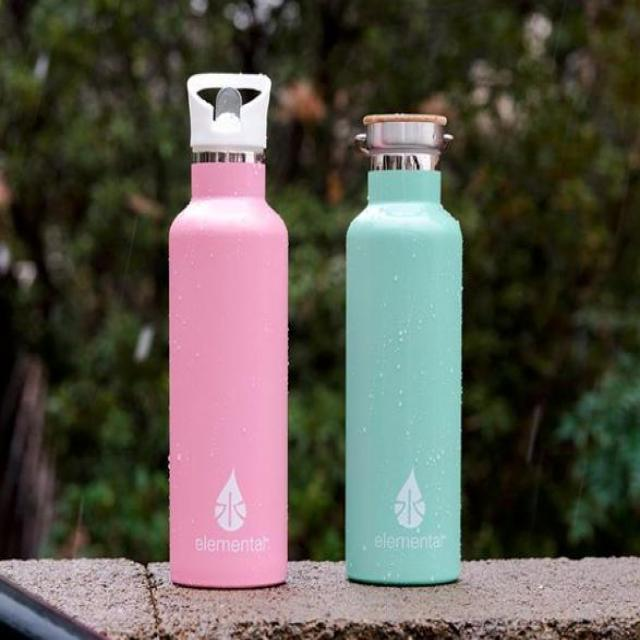metel: (170, 73, 289, 586), (345, 118, 464, 586)
